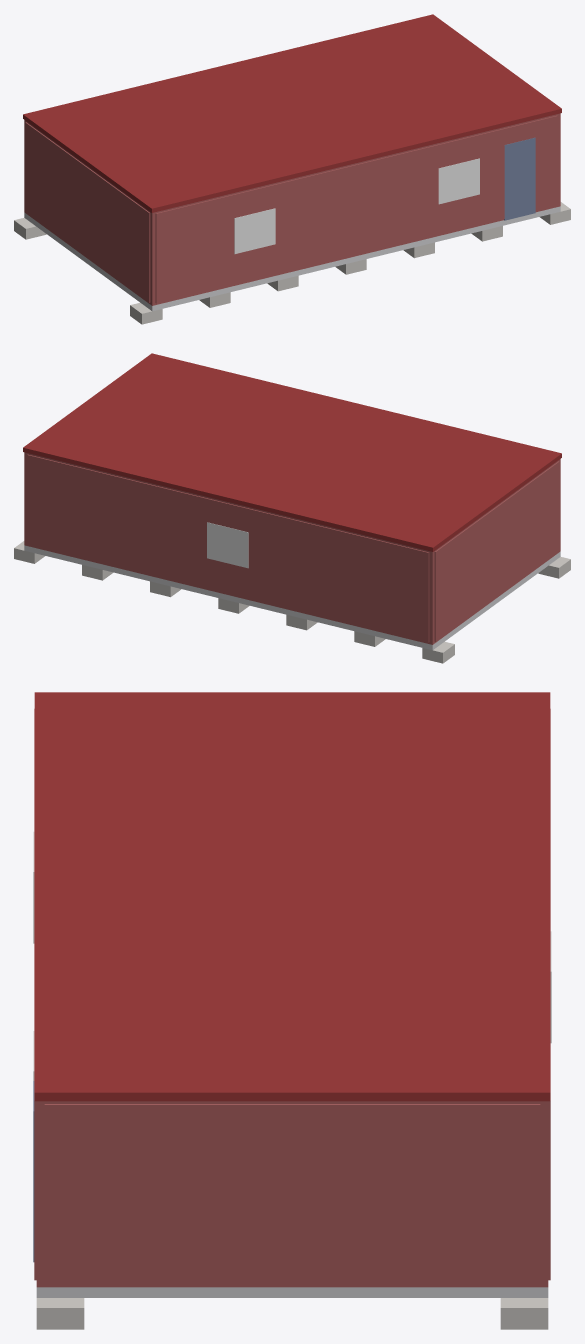
Rendered from Studio-40-Base-MaroonRed-LOD0.glb.
The picture shows the model from 3 angles, top to bottom: view 1: azimuth 30°, elevation 25°; view 2: azimuth 150°, elevation 25°; view 3: azimuth 270°, elevation 25°; orthographic projection. The views are drawn at different scales.
Visible parts, largest first — view 1: RoofMain, ExteriorPanelsStandard, BaseFrame, WindowsStandard, ExteriorShell, FoundationBlocks, EntryDoor; view 2: RoofMain, ExteriorPanelsStandard, BaseFrame, ExteriorShell, FoundationBlocks, WindowsStandard; view 3: RoofMain, ExteriorPanelsStandard, ExteriorShell, BaseFrame, FoundationBlocks.
Boxes of the visible parts, left/top/right/bottom form: RoofMain: left=23, top=14, right=561, bottom=212; ExteriorPanelsStandard: left=25, top=115, right=557, bottom=303; BaseFrame: left=24, top=206, right=560, bottom=311; WindowsStandard: left=234, top=158, right=479, bottom=254; ExteriorShell: left=24, top=113, right=560, bottom=305; FoundationBlocks: left=14, top=202, right=570, bottom=324; EntryDoor: left=504, top=137, right=535, bottom=220; RoofMain: left=23, top=353, right=561, bottom=551; ExteriorPanelsStandard: left=27, top=454, right=559, bottom=642; BaseFrame: left=24, top=545, right=560, bottom=650; ExteriorShell: left=24, top=452, right=560, bottom=644; FoundationBlocks: left=14, top=541, right=570, bottom=663; WindowsStandard: left=207, top=522, right=248, bottom=568; RoofMain: left=34, top=692, right=550, bottom=1101; ExteriorPanelsStandard: left=34, top=709, right=550, bottom=1284; ExteriorShell: left=36, top=1101, right=548, bottom=1287; BaseFrame: left=36, top=1287, right=548, bottom=1297; FoundationBlocks: left=36, top=1298, right=548, bottom=1329.
Bounding box in the file's own units: 12.49 × 3.17 × 6.53.
